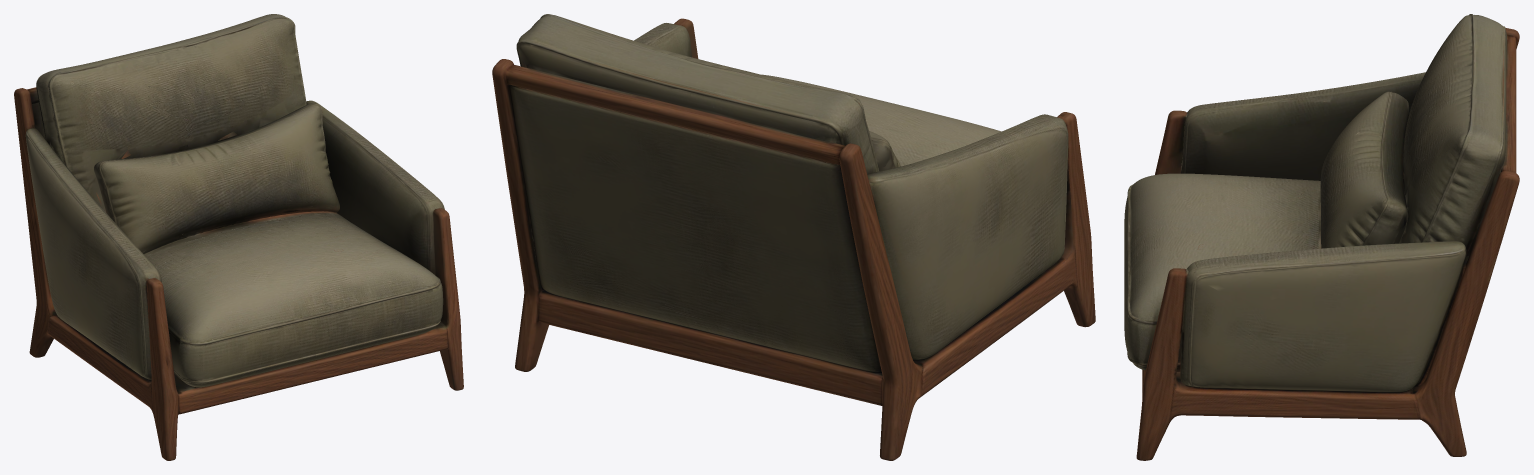
Rendered from sofa.glb.
3 views of the same model, side by side, from view 1: azimuth 30°, elevation 25°; view 2: azimuth 150°, elevation 25°; view 3: azimuth 270°, elevation 25° (orthographic). The views are drawn at different scales.
Parts seen in each view (by area): view 1: node_0; view 2: node_0; view 3: node_0.
Part boxes in pixels (box(x1,y1,x2,y2)): node_0: box(14, 14, 463, 460); node_0: box(492, 14, 1095, 460); node_0: box(1124, 14, 1519, 460).
Bounding box in the file's own units: 0.7619 × 0.6487 × 0.7499.
1 material, 1 textured.
